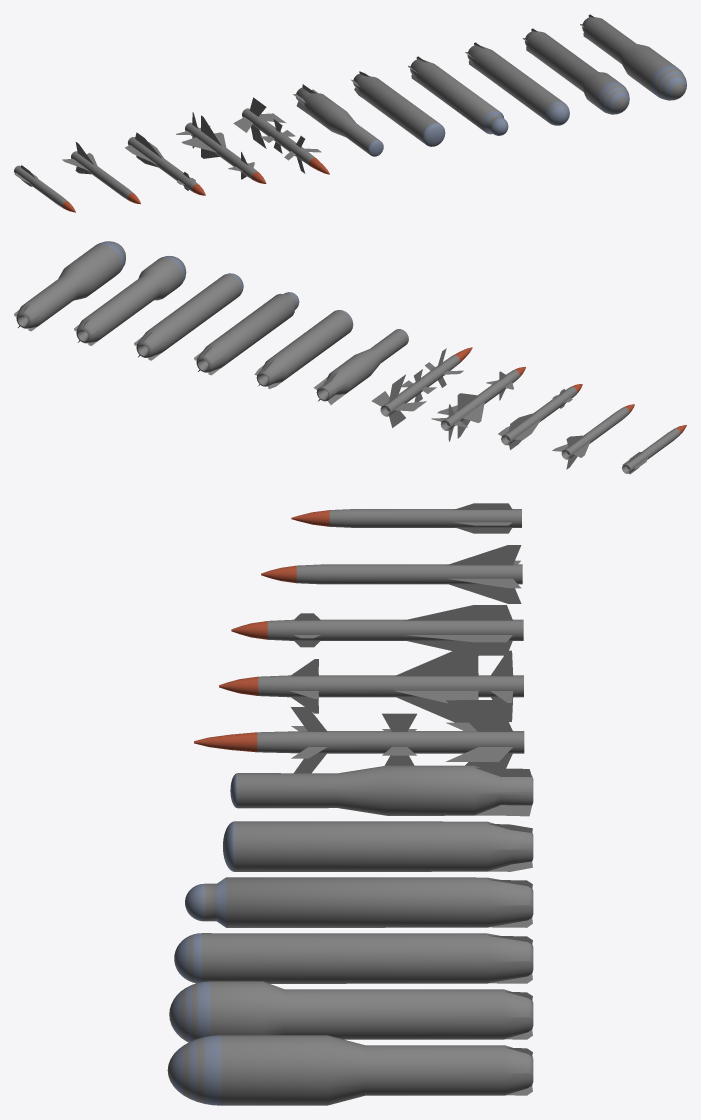
File: Missiles+Torpedos.obj
The picture shows the model from 3 angles, top to bottom: view 1: azimuth 30°, elevation 25°; view 2: azimuth 150°, elevation 25°; view 3: azimuth 270°, elevation 25°; orthographic projection. The views are drawn at different scales.
Visible parts, largest first — view 1: Xi, Rho, Sigma, Tau, Upsilon, Omega, Epsilon, Delta, Gamma, Beta, Alpha; view 2: Xi, Rho, Sigma, Tau, Upsilon, Omega, Epsilon, Delta, Gamma, Beta, Alpha; view 3: Xi, Rho, Sigma, Tau, Upsilon, Omega, Epsilon, Delta, Gamma, Beta, Alpha.
Part boxes in pixels (x1=…): Xi: x1=580, y1=14, x2=686, y2=100; Rho: x1=522, y1=28, x2=629, y2=114; Sigma: x1=465, y1=42, x2=569, y2=125; Tau: x1=408, y1=56, x2=508, y2=135; Upsilon: x1=351, y1=71, x2=445, y2=146; Omega: x1=293, y1=84, x2=383, y2=156; Epsilon: x1=233, y1=97, x2=329, y2=174; Delta: x1=176, y1=112, x2=266, y2=183; Gamma: x1=125, y1=132, x2=205, y2=195; Beta: x1=62, y1=142, x2=140, y2=204; Alpha: x1=14, y1=165, x2=75, y2=212; Xi: x1=14, y1=241, x2=125, y2=331; Rho: x1=74, y1=256, x2=186, y2=345; Sigma: x1=134, y1=273, x2=243, y2=360; Tau: x1=194, y1=292, x2=299, y2=375; Upsilon: x1=254, y1=310, x2=353, y2=388; Omega: x1=313, y1=329, x2=408, y2=404; Epsilon: x1=371, y1=347, x2=472, y2=427; Delta: x1=431, y1=367, x2=525, y2=441; Gamma: x1=498, y1=384, x2=582, y2=449; Beta: x1=552, y1=404, x2=634, y2=469; Alpha: x1=622, y1=425, x2=686, y2=474; Xi: x1=167, y1=1035, x2=533, y2=1105; Rho: x1=169, y1=981, x2=533, y2=1042; Sigma: x1=174, y1=933, x2=533, y2=983; Tau: x1=185, y1=877, x2=533, y2=927; Upsilon: x1=223, y1=821, x2=533, y2=871; Omega: x1=230, y1=765, x2=533, y2=816; Epsilon: x1=194, y1=700, x2=524, y2=773; Delta: x1=219, y1=644, x2=523, y2=722; Gamma: x1=231, y1=605, x2=523, y2=655; Beta: x1=261, y1=545, x2=522, y2=603; Alpha: x1=291, y1=503, x2=521, y2=533.
Bounding box in the file's own units: 20.79 × 1.41 × 5.52.
